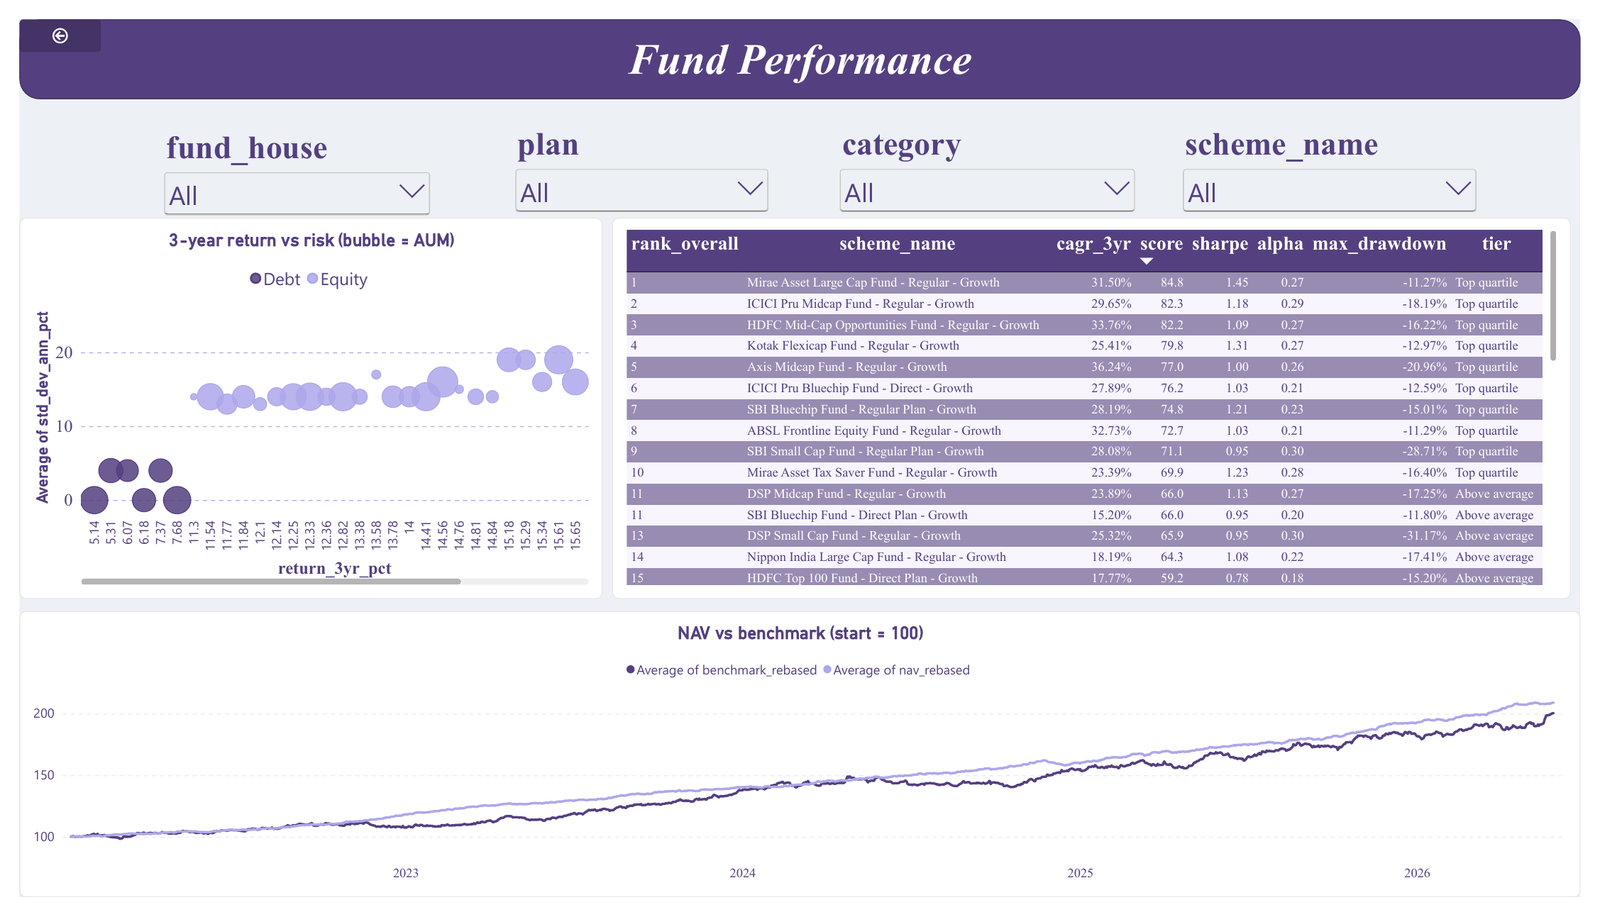

The dashboard page shown, as its layout file describes it:
{"tool":"powerbi","page":{"name":"Fund Performance","canvas":[1920,1080],"ordinal":1},"visuals":[{"type":"shape","title":"Industry Overview","box":[0,0,1920.4,97.7],"z":0},{"type":"slicer","fields":{"Values":["fund_master.fund_house"]},"box":[172.9,133.8,337.6,109.1],"z":1},{"type":"slicer","fields":{"Values":["fund_master.plan"]},"box":[605.1,129.7,321.1,113.2],"z":2},{"type":"slicer","fields":{"Values":["fund_master.category"]},"box":[1004.5,129.7,372.6,113.2],"z":3},{"type":"actionButton","box":[0,0,100,40],"z":4},{"type":"slicer","fields":{"Values":["fund_master.scheme_name"]},"box":[1426.4,129.7,370.5,113.2],"z":5},{"type":"scatterChart","title":"3-year return vs risk (bubble =  AUM)","fields":{"Series":["fund_master.category"],"Size":["Sum(scheme_performance.aum_crore)"],"X":["scheme_performance.return_3yr_pct"],"Y":["Avg(scheme_performance.std_dev_ann_pct)"]},"box":[0,244.2,716.9,469.2],"z":6},{"type":"tableEx","fields":{"Values":["fund_scorecard.rank_overall","fund_scorecard.scheme_name","fund_scorecard.cagr_3yr","fund_scorecard.score","fund_scorecard.sharpe","fund_scorecard.alpha","fund_scorecard.max_drawdown","fund_scorecard.tier"]},"box":[729.1,244.2,1179.1,469.2],"z":7},{"type":"lineChart","title":"NAV vs  benchmark (start = 100)","fields":{"Category":["nav_vs_benchmark.date"],"Y":["Avg(nav_vs_benchmark.benchmark_rebased)","Avg(nav_vs_benchmark.nav_rebased)"]},"box":[0,728,1920,352],"z":8}]}

Visuals, with their boxes in screenshot pixels (x1, y1, x2, y2), scaled from the page's 1920x1080 canvas onto the 1600x917 screenshot:
"Industry Overview" shape: 0:0:1599:83
slicer - fund_master.fund_house: 144:114:425:206
slicer - fund_master.plan: 504:110:772:206
slicer - fund_master.category: 837:110:1148:206
actionButton: 0:0:83:34
slicer - fund_master.scheme_name: 1189:110:1497:206
"3-year return vs risk (bubble =  AUM)" scatterChart: 0:207:597:606
tableEx - fund_scorecard.rank_overall x fund_scorecard.scheme_name: 608:207:1590:606
"NAV vs  benchmark (start = 100)" lineChart: 0:618:1599:916
